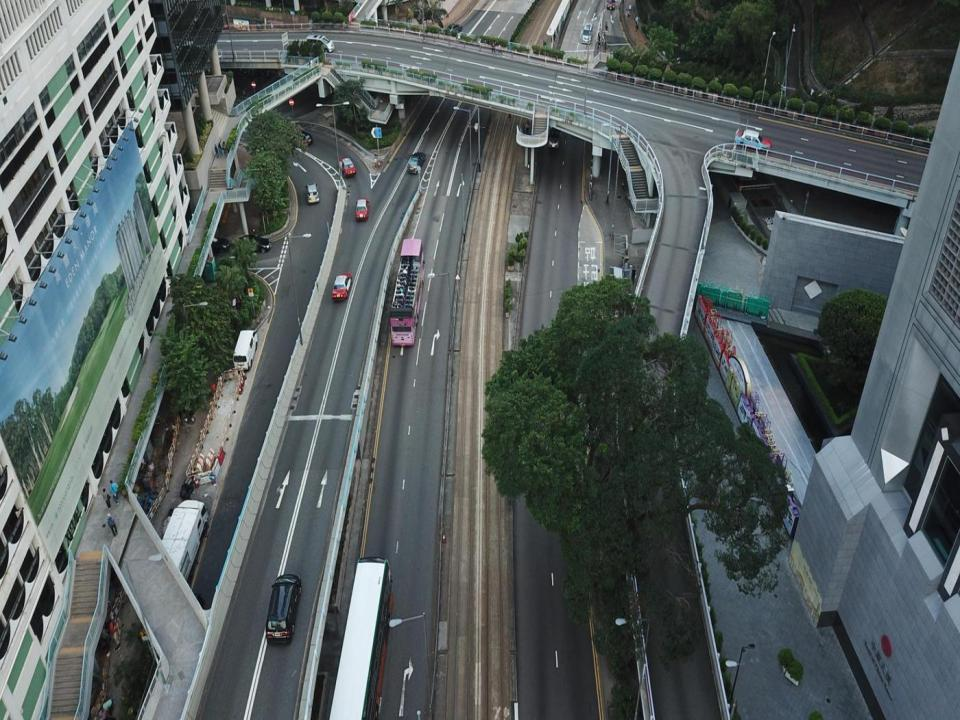bus: (328, 557, 394, 719), (390, 238, 424, 346)
car: (265, 574, 302, 645), (735, 129, 772, 152), (237, 235, 271, 252), (332, 274, 351, 300), (338, 156, 356, 178), (407, 152, 425, 174), (204, 239, 229, 253), (355, 197, 369, 221), (547, 124, 560, 148), (306, 182, 319, 204), (295, 130, 313, 145), (443, 24, 462, 34), (606, 0, 615, 9)
van: (156, 499, 207, 597), (233, 329, 257, 371), (306, 34, 334, 53), (582, 23, 592, 44)
